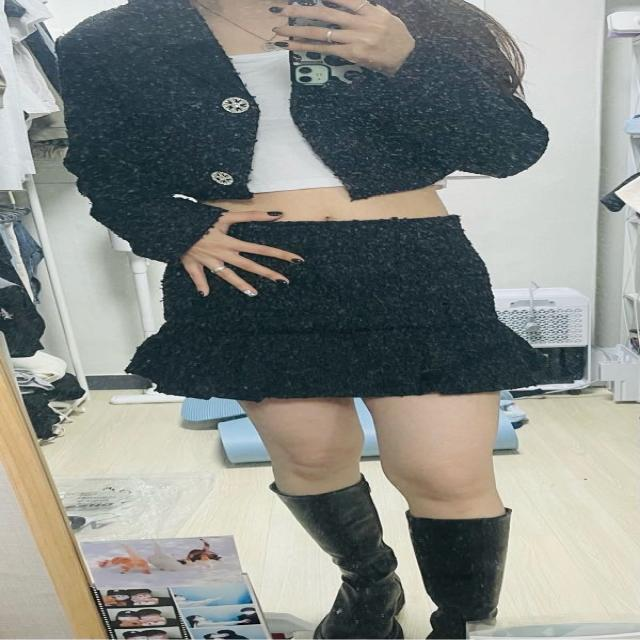jacket: (58, 0, 545, 258)
skirt: (123, 215, 560, 403)
